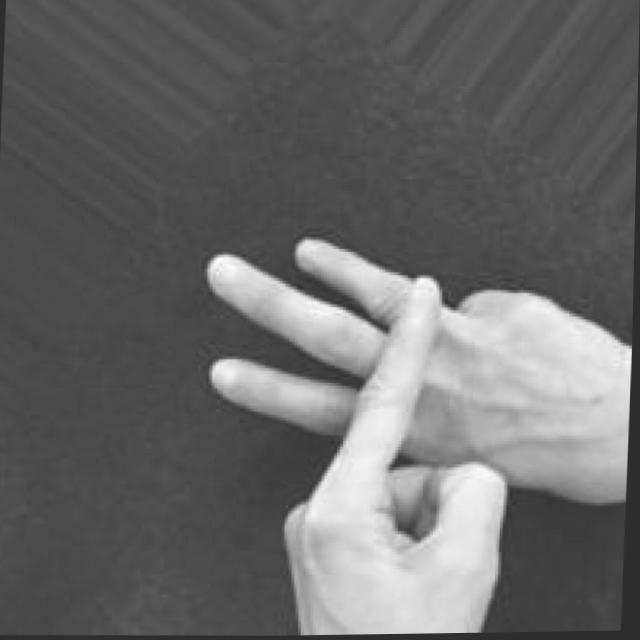E: (186, 221, 635, 637)
